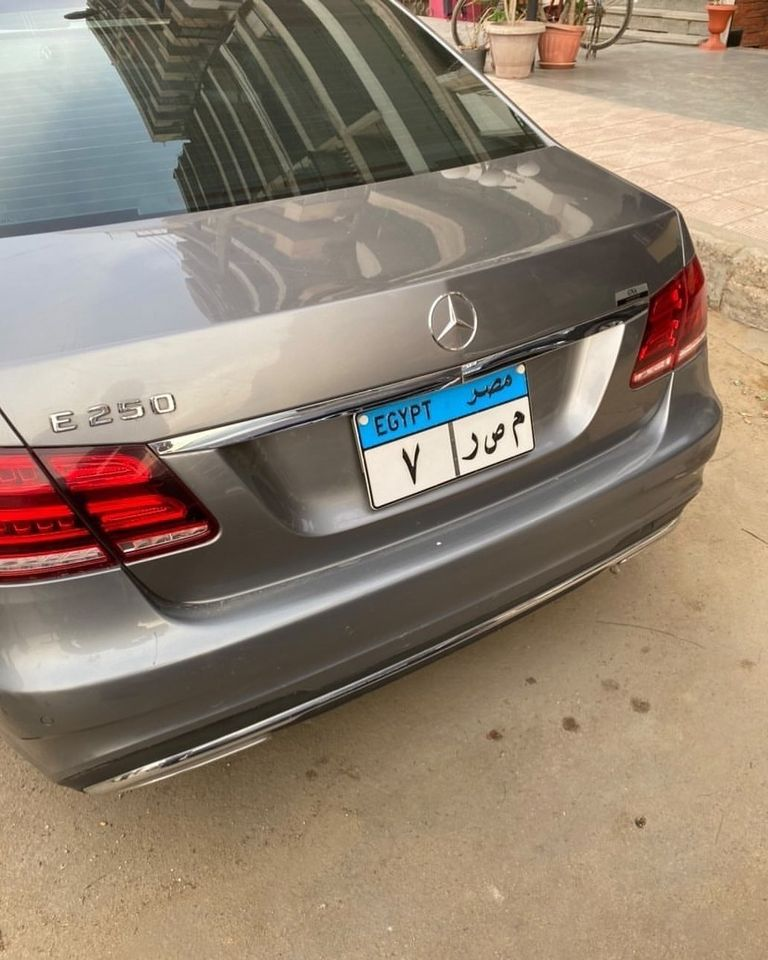carpl: (367, 396, 542, 497)
